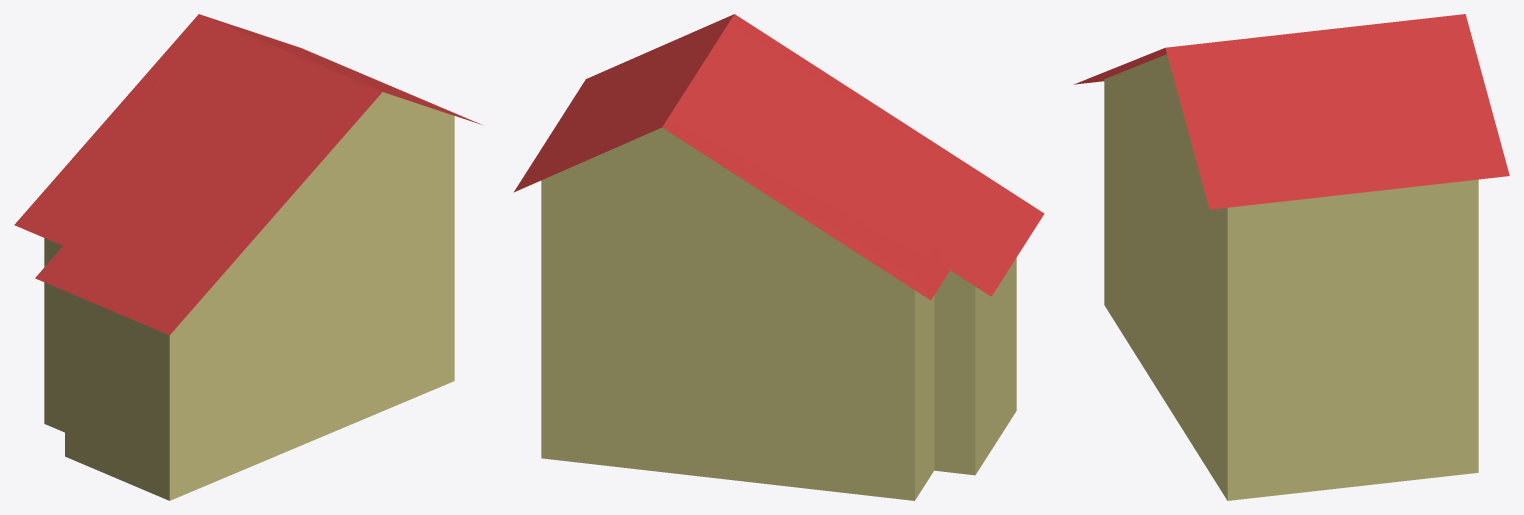
3 views of the same model, side by side, from view 1: azimuth 30°, elevation 25°; view 2: azimuth 150°, elevation 25°; view 3: azimuth 270°, elevation 25° (orthographic). The views are drawn at different scales.
Bounding box in the file's own units: 16.86 × 12.89 × 12.9.
